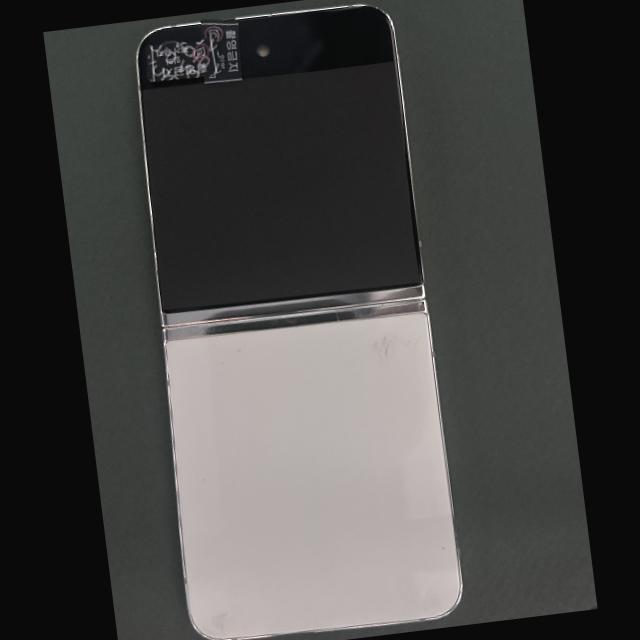phone: (138, 5, 461, 639)
sticker: (146, 37, 223, 81), (199, 19, 242, 86)
